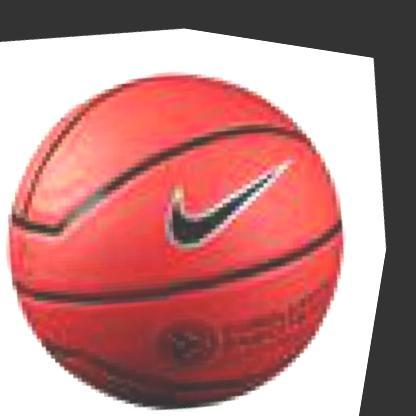basketball: (0, 7, 409, 416)
